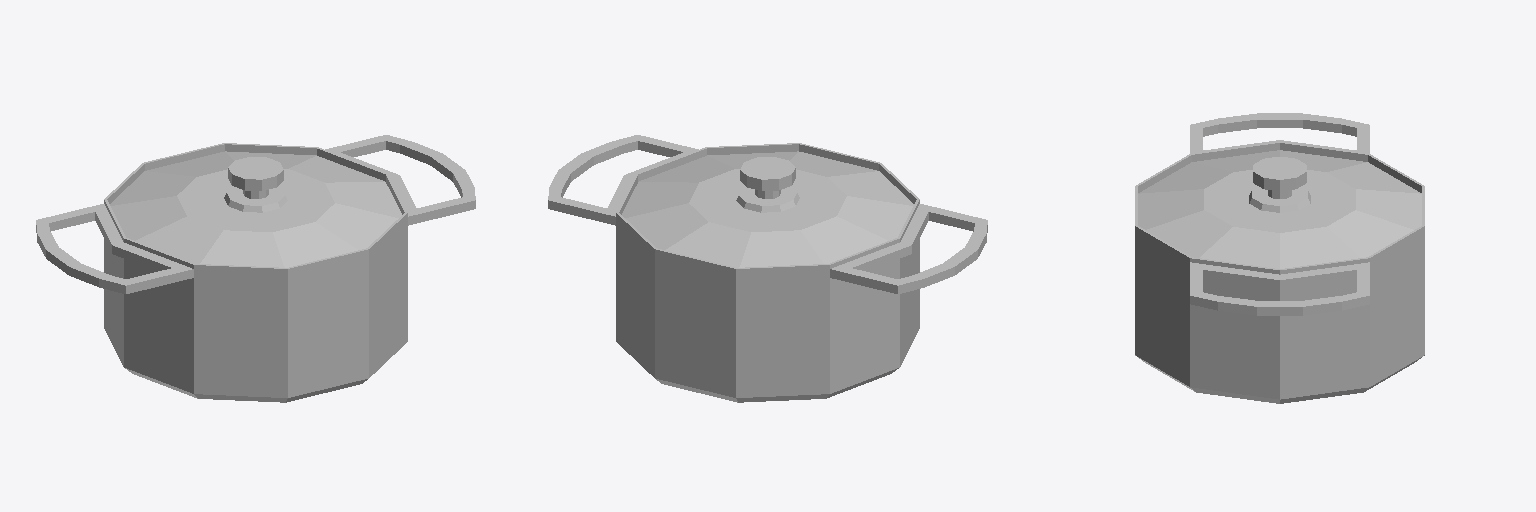
Rendered from pan_casserole_pot.obj.
3 renders of one model, left to right at view 1: azimuth 30°, elevation 25°; view 2: azimuth 150°, elevation 25°; view 3: azimuth 270°, elevation 25°, orthographic.
Parts seen in each view (by area): view 1: pan_casserole_pot.001_Cylinder.046, pan_casserole_pot_lid_Cylinder.048; view 2: pan_casserole_pot.001_Cylinder.046, pan_casserole_pot_lid_Cylinder.048; view 3: pan_casserole_pot.001_Cylinder.046, pan_casserole_pot_lid_Cylinder.048.
Part boxes in pixels (x1,y1,x2,y2): pan_casserole_pot.001_Cylinder.046: (36, 135, 475, 402); pan_casserole_pot_lid_Cylinder.048: (110, 151, 401, 267); pan_casserole_pot.001_Cylinder.046: (548, 135, 987, 402); pan_casserole_pot_lid_Cylinder.048: (622, 151, 913, 267); pan_casserole_pot.001_Cylinder.046: (1135, 113, 1424, 403); pan_casserole_pot_lid_Cylinder.048: (1138, 150, 1421, 268).
Size of the model in its own units: 7.35 by 3.11 by 4.66.